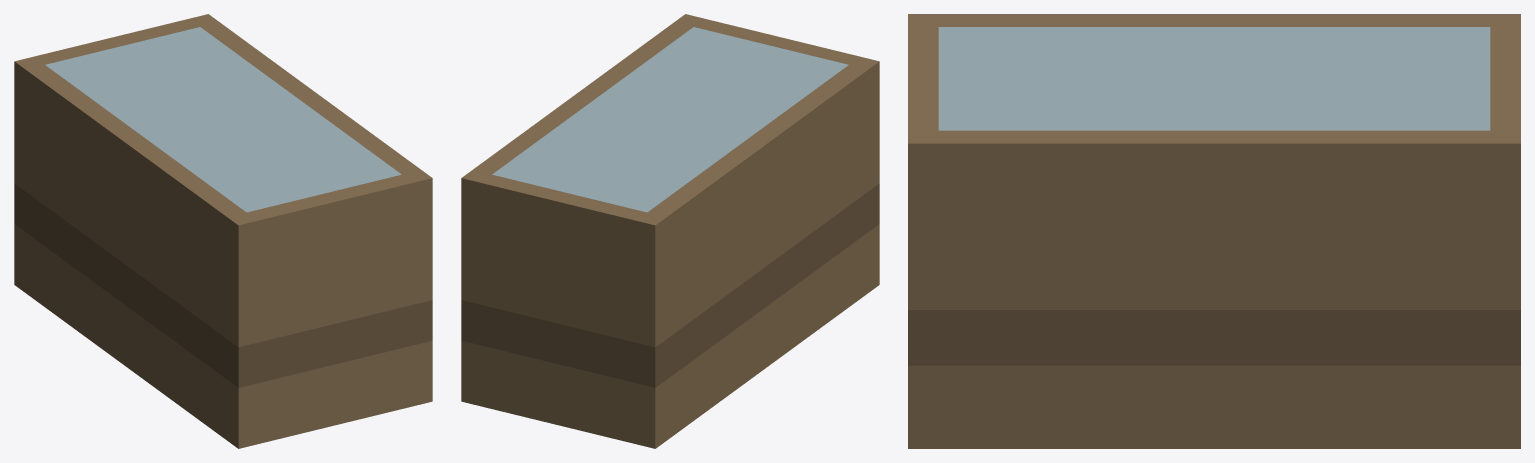
The model's file is tina_madera_roble_ferrado_01.glb.
The picture shows the model from 3 angles, left to right: view 1: azimuth 30°, elevation 25°; view 2: azimuth 150°, elevation 25°; view 3: azimuth 270°, elevation 25°; orthographic projection. The views are drawn at different scales.
Visible parts, largest first — view 1: tina_madera_roble_ferrado; view 2: tina_madera_roble_ferrado; view 3: tina_madera_roble_ferrado.
Part boxes in pixels (left/top/right/bottom): tina_madera_roble_ferrado: left=14, top=14, right=432, bottom=448; tina_madera_roble_ferrado: left=461, top=14, right=879, bottom=448; tina_madera_roble_ferrado: left=908, top=14, right=1520, bottom=448.
Bounding box in the file's own units: 1 × 1.1 × 2.
